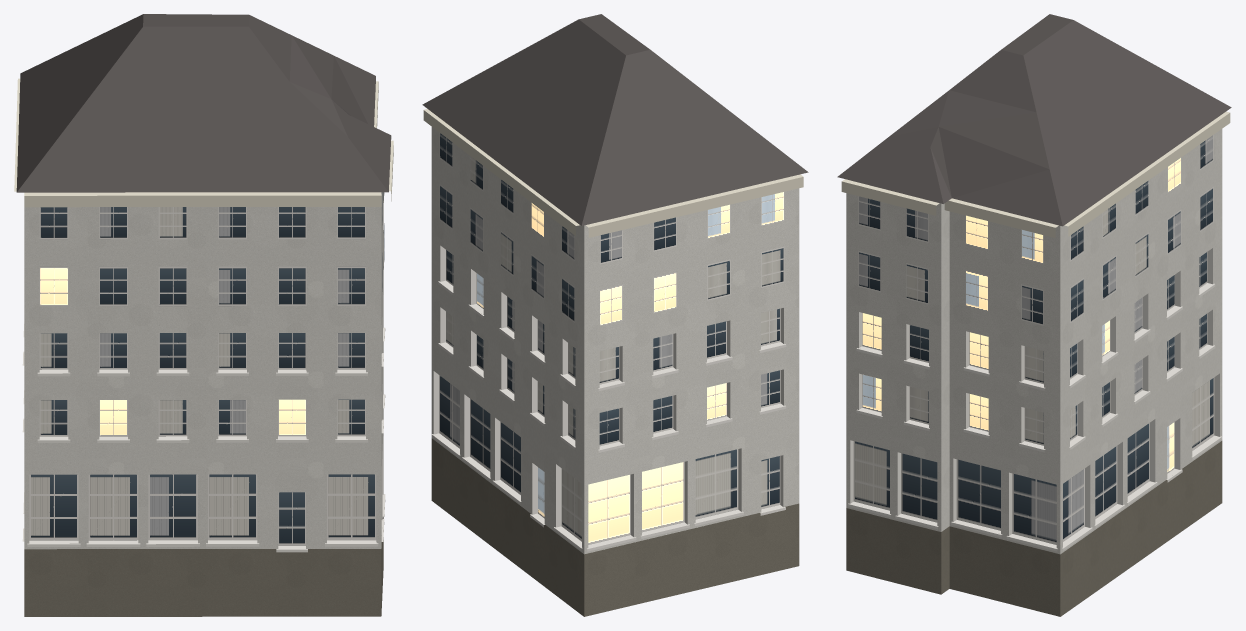
The model's file is z3c_hb_cream.glb.
3 renders of one model, left to right at view 1: azimuth 30°, elevation 25°; view 2: azimuth 150°, elevation 25°; view 3: azimuth 270°, elevation 25°, orthographic. The views are drawn at different scales.
Parts seen in each view (by area): view 1: z3c_hb_cream; view 2: z3c_hb_cream; view 3: z3c_hb_cream.
Boxes of the visible parts, left/top/right/bottom form: z3c_hb_cream: left=14, top=14, right=393, bottom=616; z3c_hb_cream: left=422, top=14, right=808, bottom=616; z3c_hb_cream: left=837, top=14, right=1231, bottom=616.
Bounding box in the file's own units: 18.02 × 23.92 × 17.15.
Materials: 3 (3 with a texture image).
